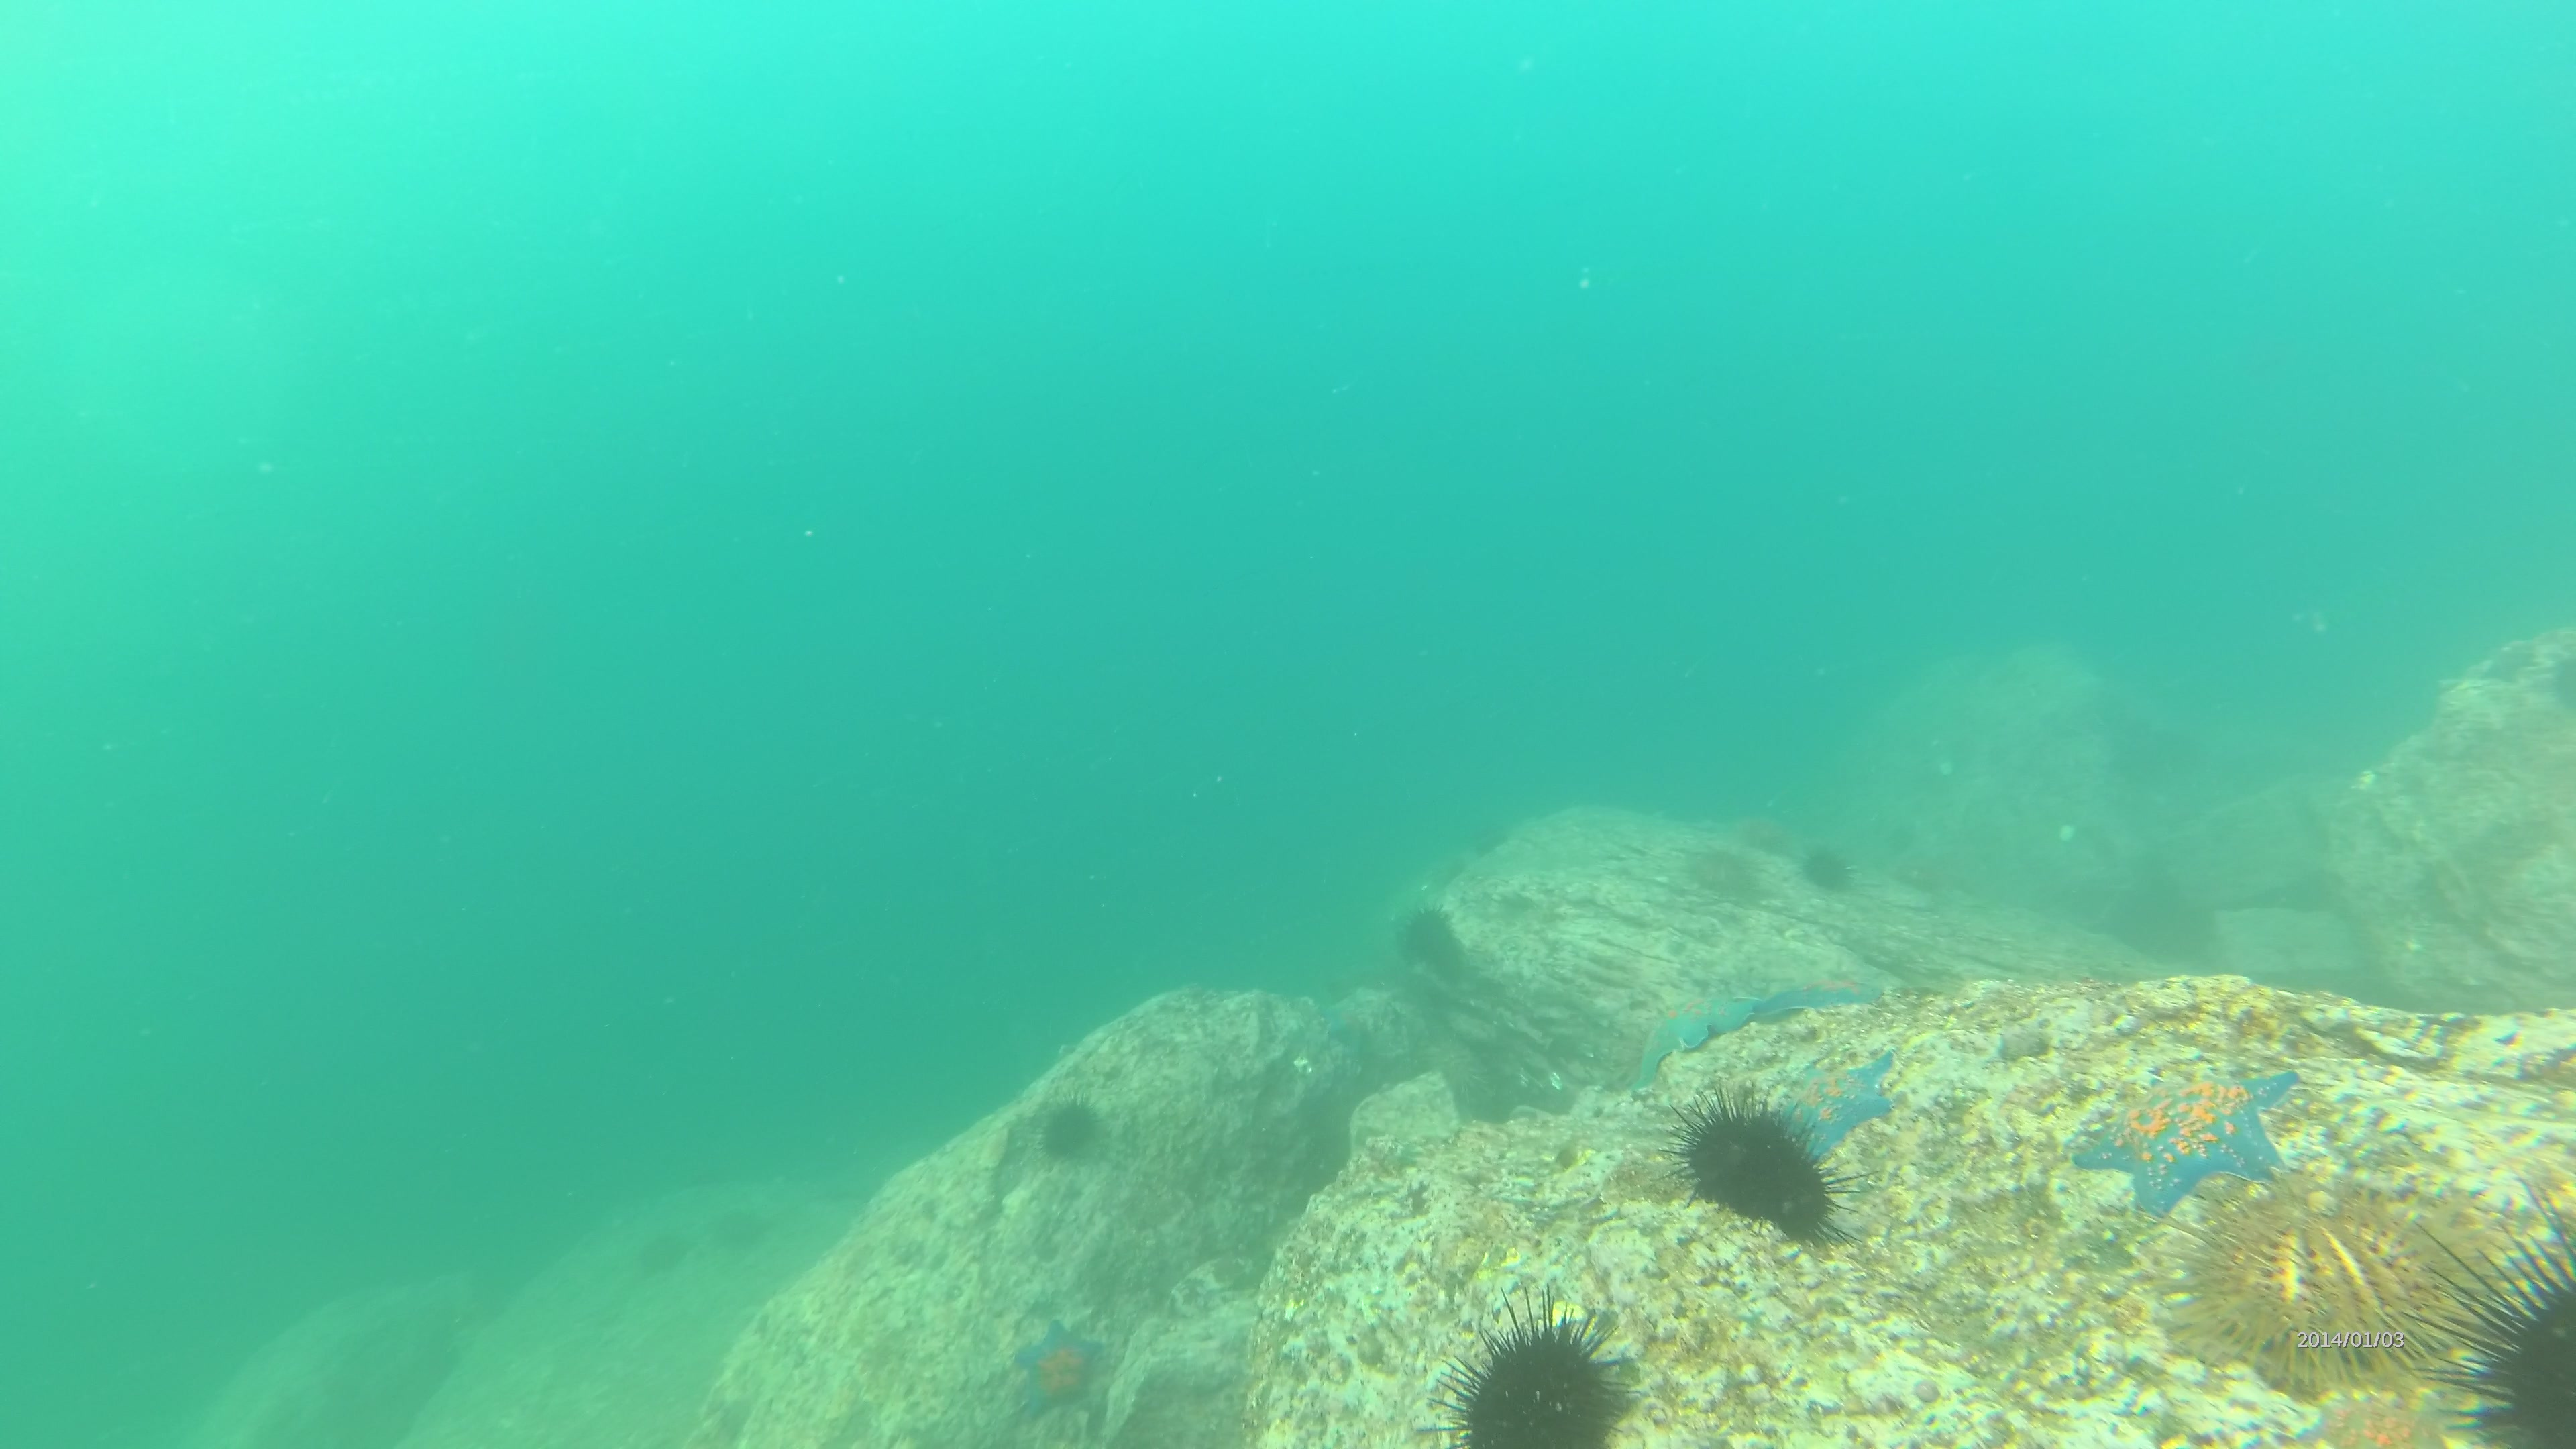echinus: (2143, 1182, 2477, 1394), (2406, 1187, 2576, 1449), (1417, 1284, 1658, 1449), (1658, 1081, 1861, 1263), (1668, 839, 1753, 911), (1396, 897, 1461, 984), (1037, 1092, 1109, 1164), (1798, 835, 1861, 904), (633, 1219, 697, 1286), (708, 1200, 775, 1261)
starfish: (2070, 1060, 2302, 1214), (1769, 1058, 1890, 1157), (1008, 1316, 1109, 1430), (1635, 993, 1762, 1079), (1764, 973, 1902, 1021)
